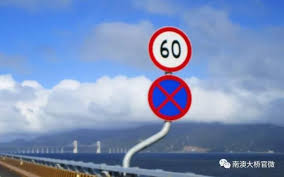Speed_limit_60km: (147, 23, 193, 75)
